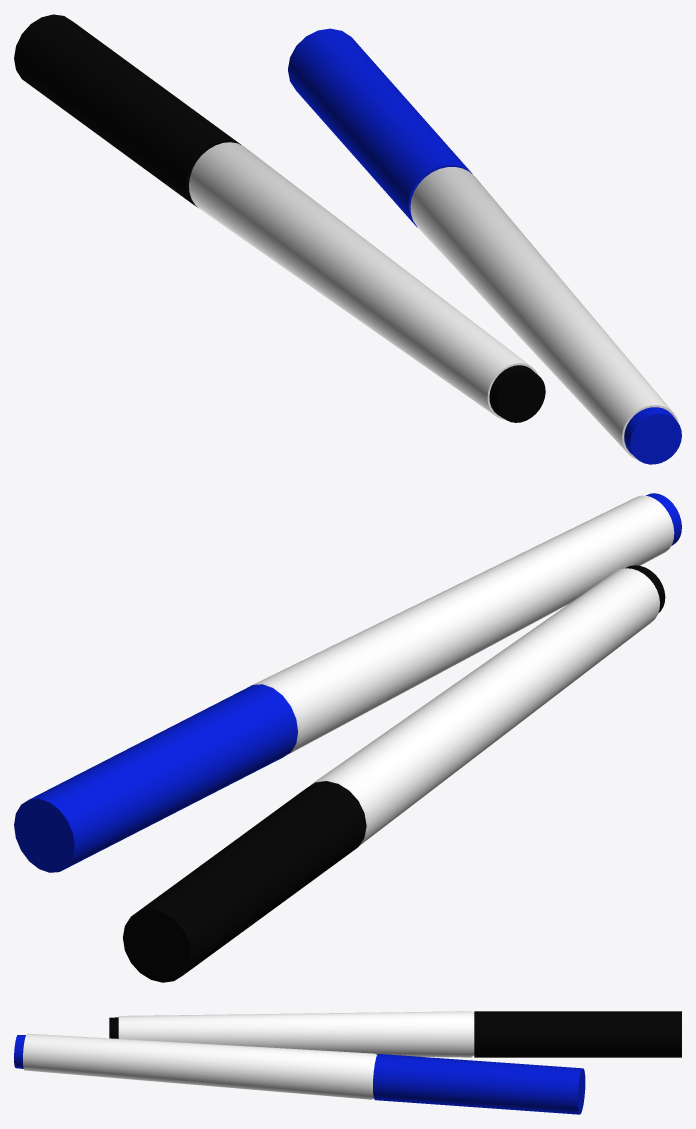
Rendered from Felt pens 1.FBX.
The picture shows the model from 3 angles, top to bottom: view 1: azimuth 30°, elevation 25°; view 2: azimuth 150°, elevation 25°; view 3: azimuth 270°, elevation 25°; orthographic projection. The views are drawn at different scales.
Parts seen in each view (by area): view 1: Marker 1, Marker 2; view 2: Marker 2, Marker 1; view 3: Marker 2, Marker 1.
Boxes of the visible parts, left/top/right/bottom form: Marker 1: left=14, top=14, right=545, bottom=422; Marker 2: left=288, top=28, right=681, bottom=464; Marker 2: left=14, top=493, right=681, bottom=872; Marker 1: left=123, top=565, right=665, bottom=982; Marker 2: left=14, top=1033, right=585, bottom=1114; Marker 1: left=109, top=1011, right=681, bottom=1057.
Size of the model in its own units: 45.38 by 167 by 11.6.
Materials: 1 (1 with a texture image).
